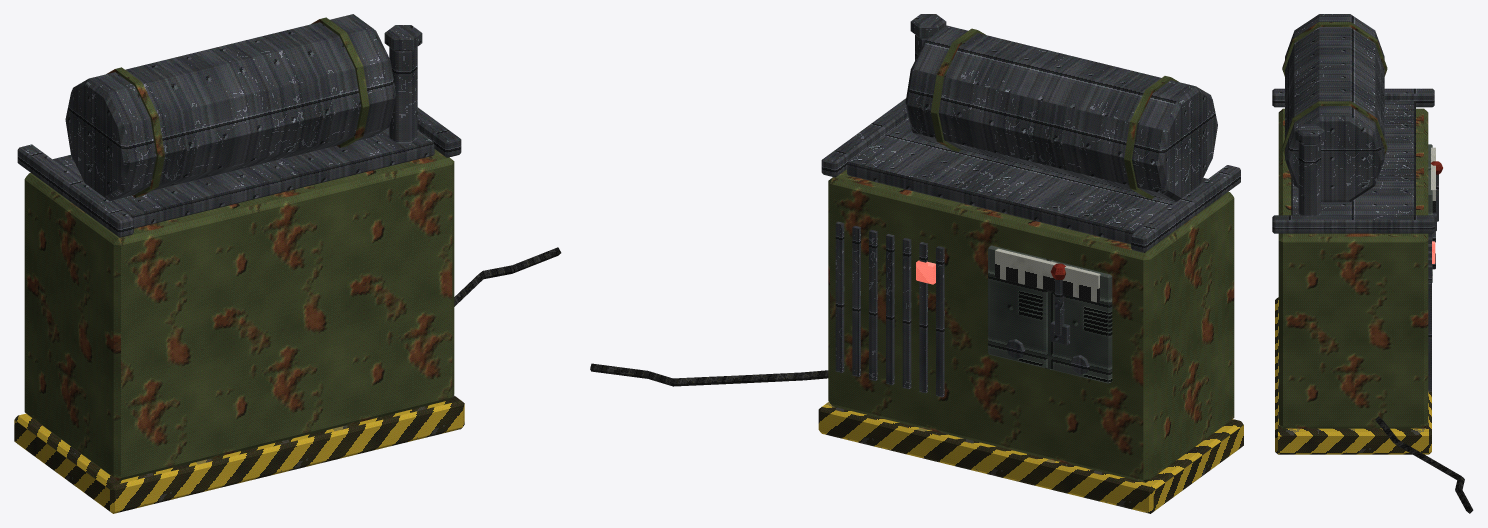
The model's file is prop_generator.glb.
The picture shows the model from 3 angles, left to right: view 1: azimuth 30°, elevation 25°; view 2: azimuth 150°, elevation 25°; view 3: azimuth 270°, elevation 25°; orthographic projection. The views are drawn at different scales.
Parts seen in each view (by area): view 1: prop_generator_mesh; view 2: prop_generator_mesh; view 3: prop_generator_mesh.
Boxes of the visible parts, x1,y1,x2,y2 form: prop_generator_mesh: [14, 14, 561, 513]; prop_generator_mesh: [590, 14, 1243, 513]; prop_generator_mesh: [1272, 14, 1473, 513].
Bounding box in the file's own units: 4.18 × 2.8 × 1.61.
Materials: 8 (8 with a texture image).
